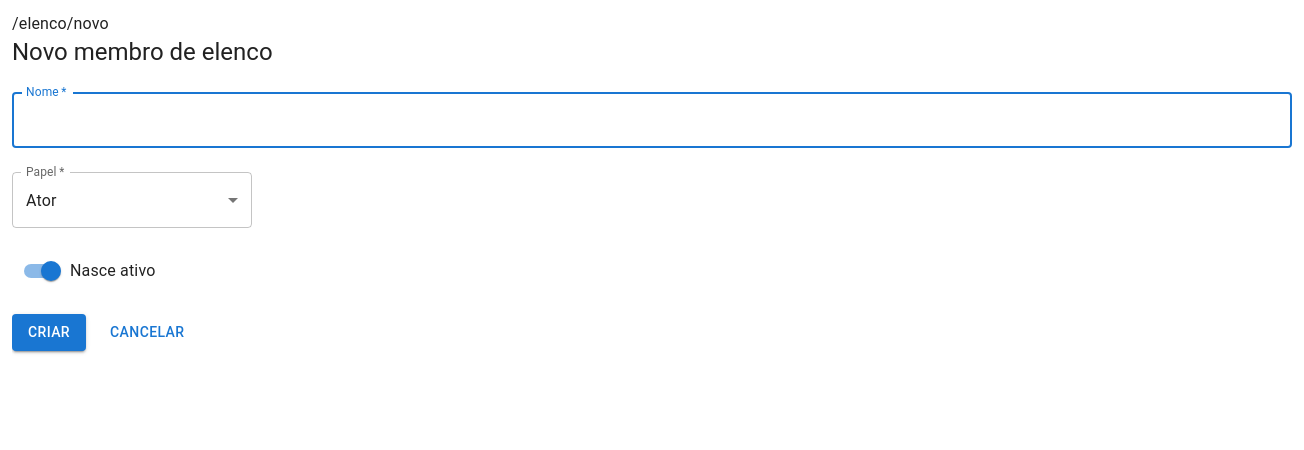
Test case: CastMemberCreate › given422_whenCria_thenMostraAMensagemENaoNavega
The width and height of the screenshot is (1304, 450).
Type "Vin Diesel" into the field labelled "Nome *".
click(652, 120); type("Vin Diesel")  # box [12, 92, 1292, 148]
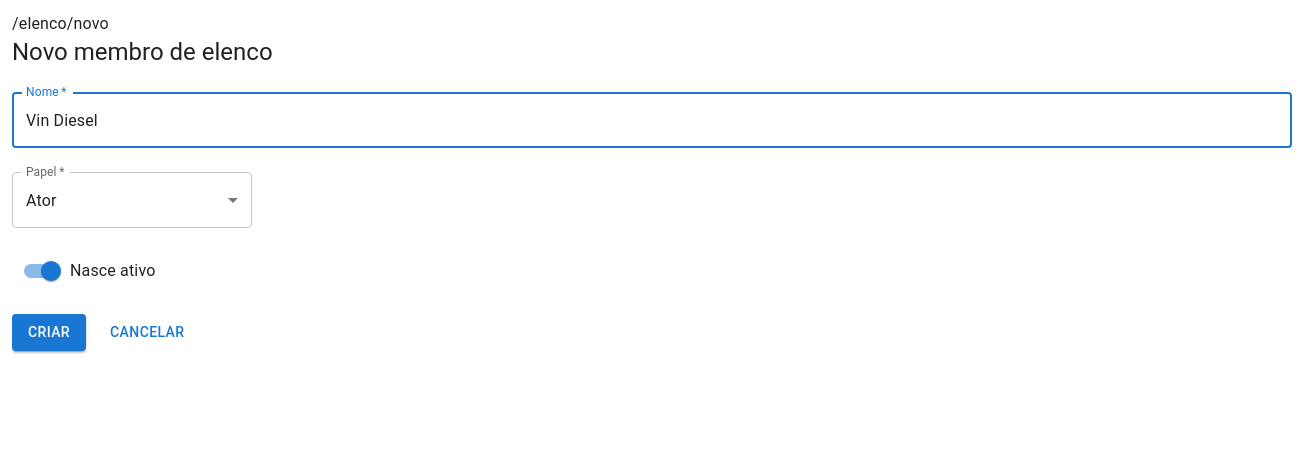
Click the button "Criar".
click(49, 332)  # box [12, 314, 86, 350]
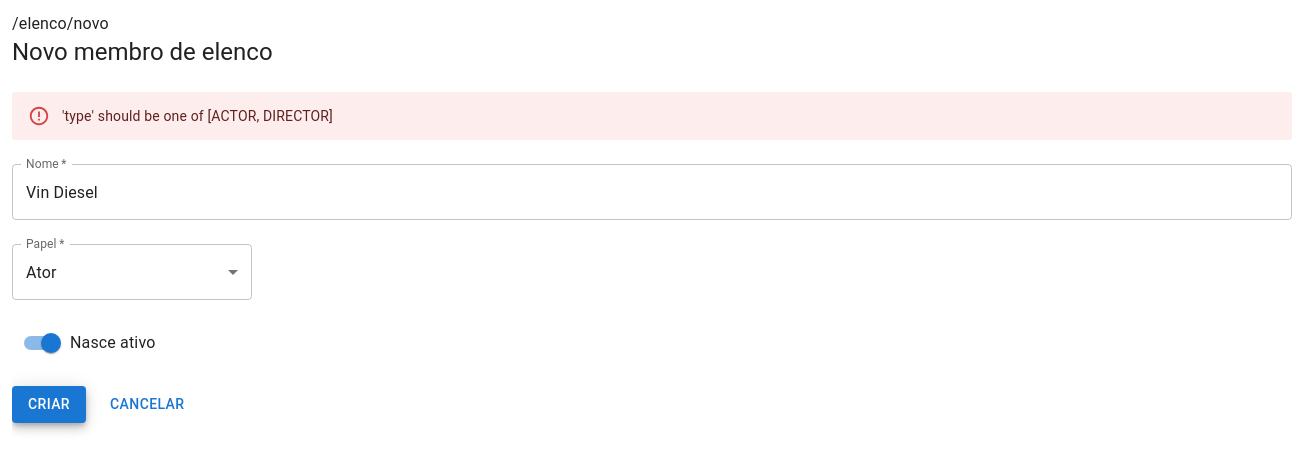
Check: the text with test id "rota" reads "/elenco/novo", box [12, 14, 109, 33]
Check: the text "'type' should be one of [ACTOR, DIRECTOR]" is shown, box [62, 108, 333, 124]
